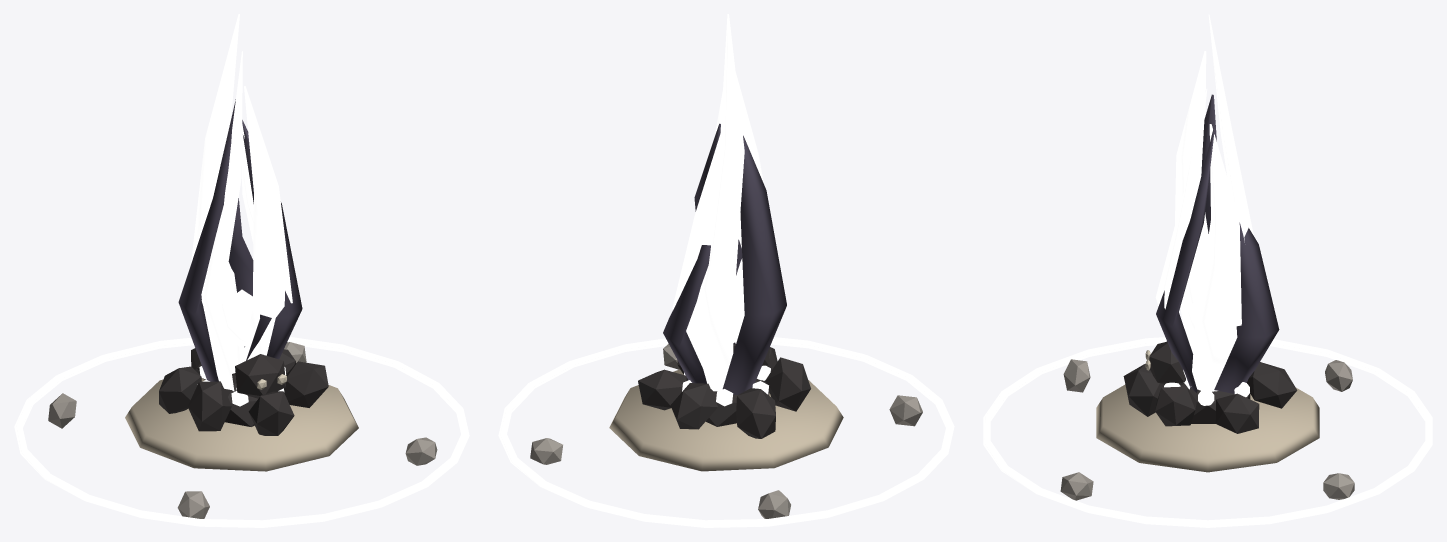
File: ember-circle-flame.glb
3 views of the same model, side by side, from view 1: azimuth 30°, elevation 25°; view 2: azimuth 150°, elevation 25°; view 3: azimuth 270°, elevation 25° (orthographic).
Parts seen in each view (by area): view 1: ember_circle_flame; view 2: ember_circle_flame; view 3: ember_circle_flame.
Boxes of the visible parts, x1,y1,x2,y2 form: ember_circle_flame: (14, 14, 469, 527); ember_circle_flame: (498, 14, 954, 527); ember_circle_flame: (983, 14, 1432, 527).
Size of the model in its own units: 0.7359 by 0.7702 by 0.7285.
